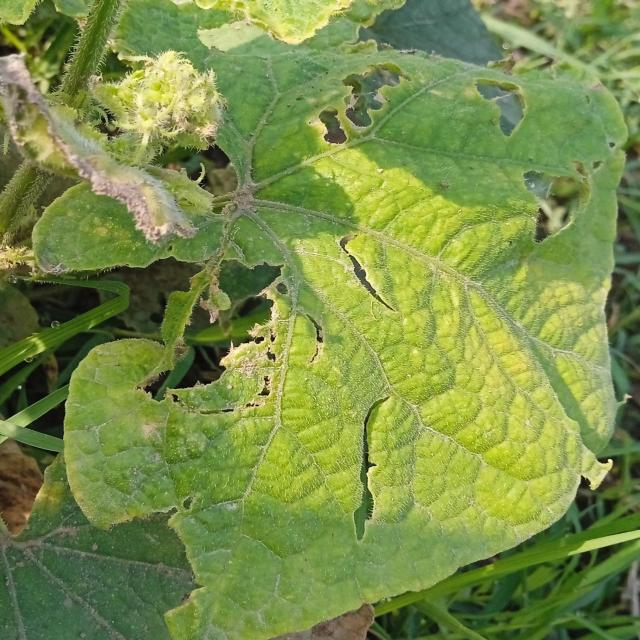cucumber_anthracnose: (52, 42, 621, 619)
